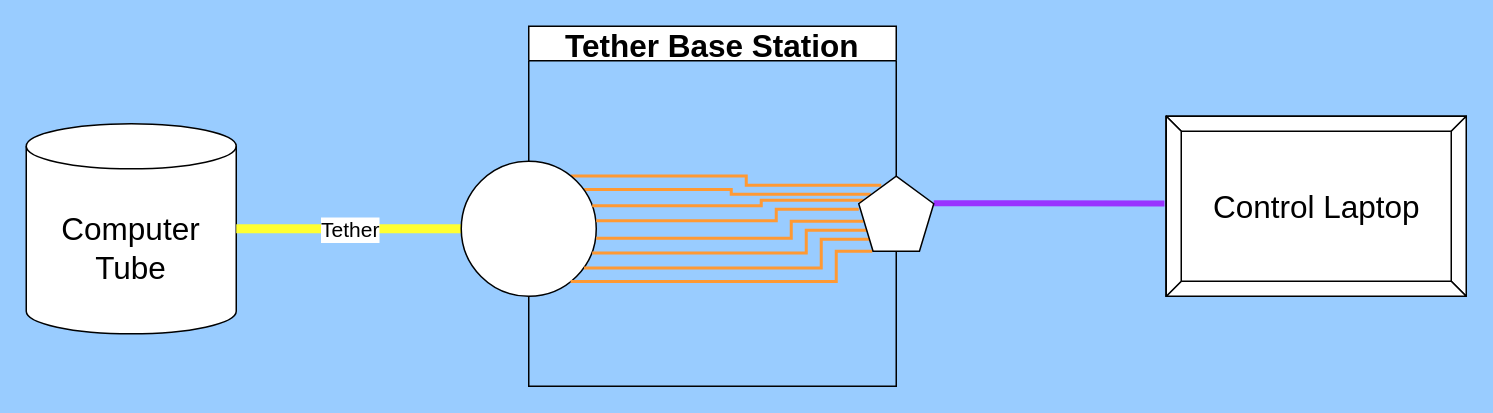
Some shapes in this 1493 by 413 pixel diagram are drawn without their labels. Here are the shapes that lost their labels. From the top down, the centre of each, then its label:
(x=528, y=228): Binder 770 Connector
(x=895, y=213): Ethernet RJ45
